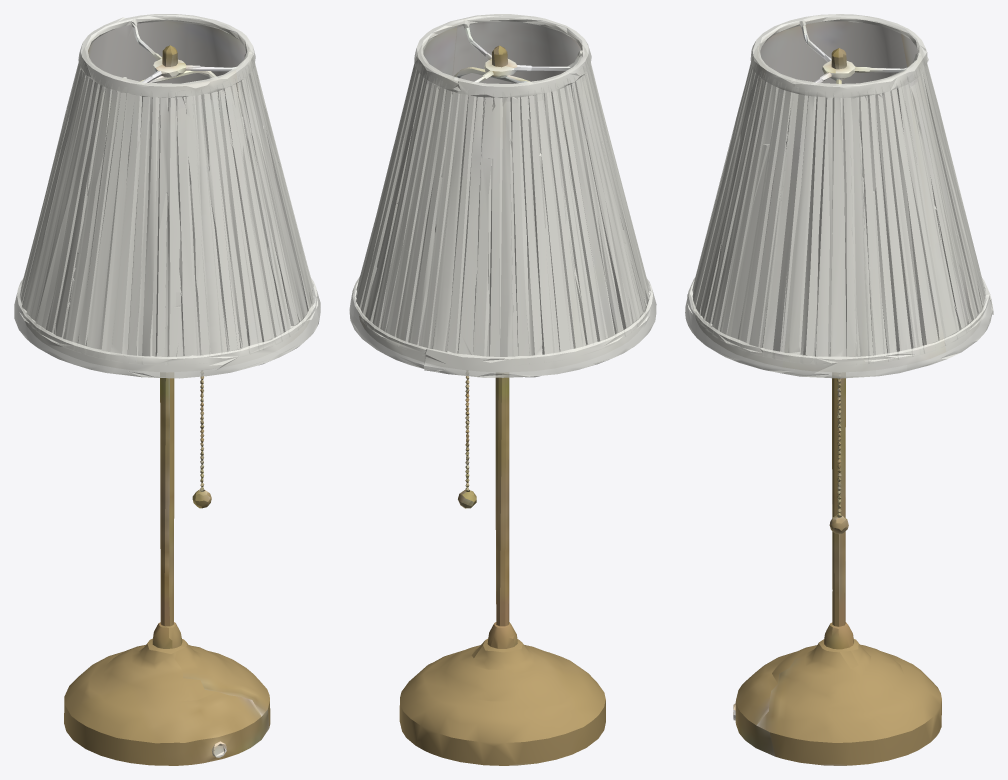
Rendered from light-4.glb.
The picture shows the model from 3 angles, left to right: view 1: azimuth 30°, elevation 25°; view 2: azimuth 150°, elevation 25°; view 3: azimuth 270°, elevation 25°; orthographic projection.
Visible parts, largest first — view 1: ProcessedMeshNode; view 2: ProcessedMeshNode; view 3: ProcessedMeshNode.
Boxes of the visible parts, bbox=[...] form: ProcessedMeshNode: bbox=[14, 14, 320, 765]; ProcessedMeshNode: bbox=[349, 14, 656, 765]; ProcessedMeshNode: bbox=[685, 14, 993, 765].
Bounding box in the file's own units: 0.222 × 0.5403 × 0.2235.
2 materials, 2 textured.
